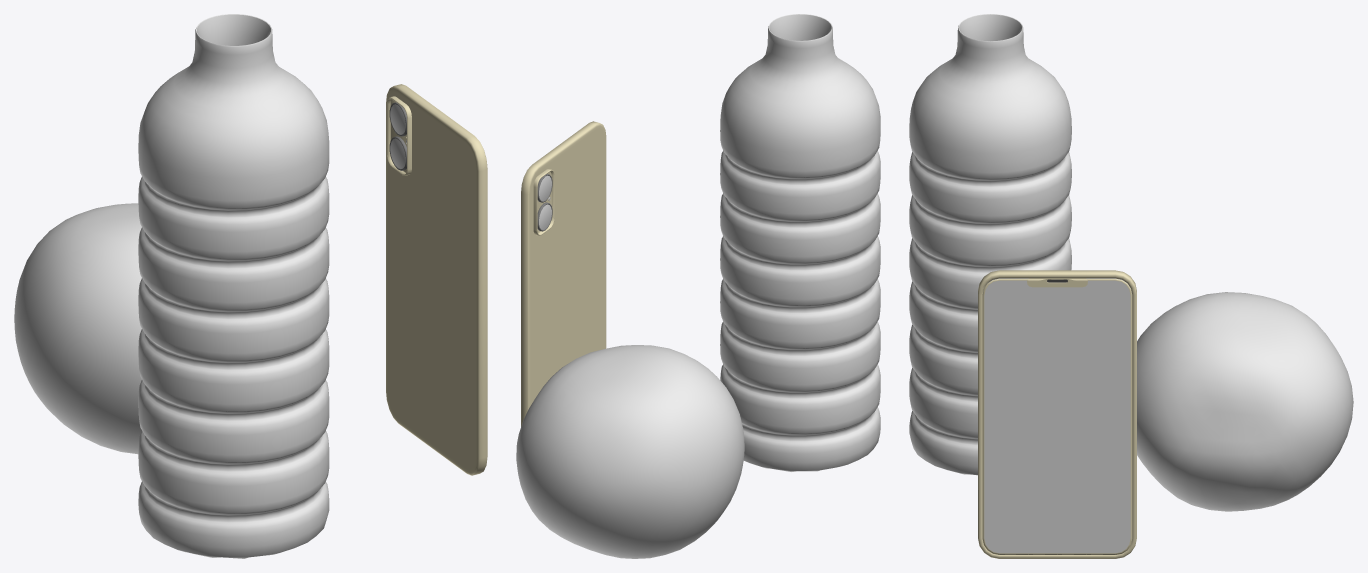
Rendered from Props_lvl4.fbx.
The picture shows the model from 3 angles, left to right: view 1: azimuth 30°, elevation 25°; view 2: azimuth 150°, elevation 25°; view 3: azimuth 270°, elevation 25°; orthographic projection. The views are drawn at different scales.
Parts seen in each view (by area): view 1: WaterBottle, SmartPhone_Screen, Orange; view 2: WaterBottle, Orange, SmartPhone_Screen; view 3: WaterBottle, SmartPhone_Screen, Orange.
Part boxes in pixels (x1,y1,x2,y2): WaterBottle: (138, 14, 329, 558); SmartPhone_Screen: (386, 84, 487, 475); Orange: (14, 203, 141, 454); WaterBottle: (720, 14, 880, 471); Orange: (516, 345, 744, 558); SmartPhone_Screen: (521, 121, 606, 426); WaterBottle: (909, 14, 1071, 475); SmartPhone_Screen: (978, 270, 1136, 558); Orange: (1137, 292, 1353, 511).
Size of the model in its own units: 33.27 by 24.27 by 37.13.
